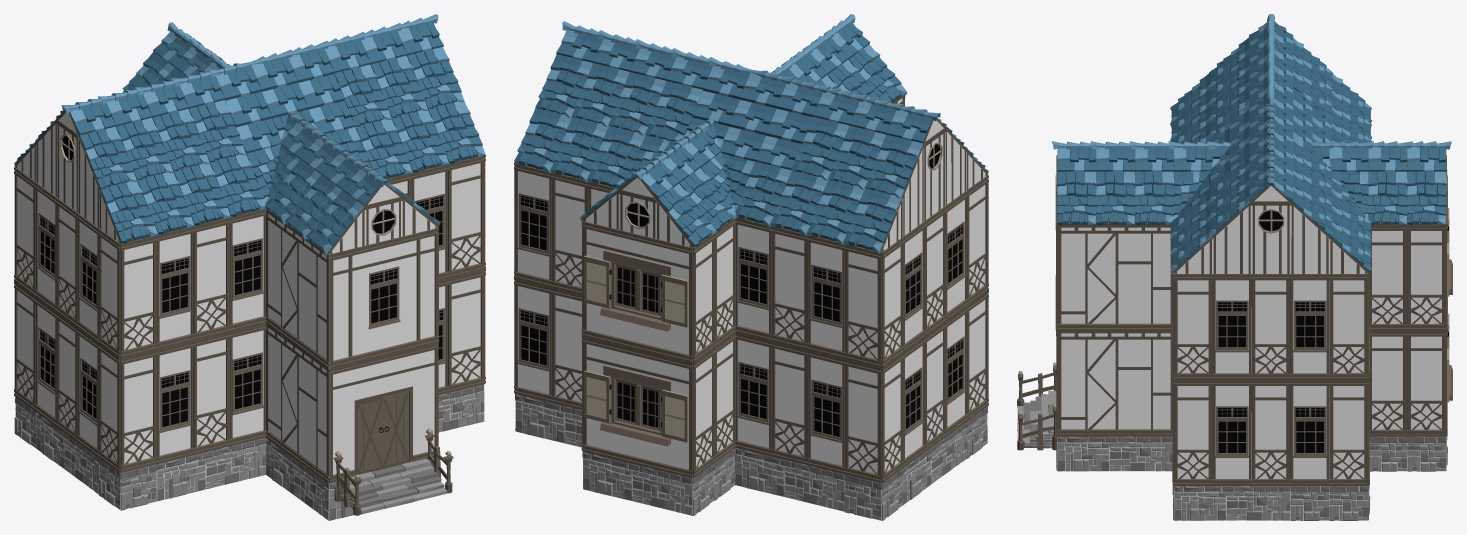
Rendered from House_18_Full.glb.
3 views of the same model, side by side, from view 1: azimuth 30°, elevation 25°; view 2: azimuth 150°, elevation 25°; view 3: azimuth 270°, elevation 25° (orthographic). The views are drawn at different scales.
Parts seen in each view (by area): view 1: WINDOW_03_2, DOOR_03_1, WALL_05_2, WALL_05_3, STAIRS_03_3, WALL_04_5, WALL_04_4, WALL_04_6, WALL_04_3, WINDOW_04_5, WALL_04_9, WINDOW_04_4 (+70 smaller); view 2: WINDOW_06_1.001, WINDOW_06_1, WALL_04_17, WALL_04_18, WALL_04_19, WINDOW_04_15, WINDOW_04_19, WALL_04_20, WINDOW_04_16, WINDOW_04_20, FOUNDATION_02_33, FOUNDATION_02_34 (+73 smaller); view 3: WALL_05_5, WALL_05_4, WINDOW_04_22, WALL_04_24, WALL_04_25, WALL_04_36, WALL_04_34, WINDOW_04_23, WALL_04_27, WALL_04_26, FOUNDATION_02_30, WINDOW_04_21 (+61 smaller).
Part boxes in pixels (<box>): WINDOW_03_2: <box>329,228,439,369</box>; DOOR_03_1: <box>329,343,438,483</box>; WALL_05_2: <box>266,324,329,482</box>; WALL_05_3: <box>266,210,329,368</box>; STAIRS_03_3: <box>333,428,453,515</box>; WALL_04_5: <box>120,236,157,358</box>; WALL_04_4: <box>120,350,157,472</box>; WALL_04_6: <box>193,219,230,340</box>; WALL_04_3: <box>193,332,230,454</box>; WINDOW_04_5: <box>157,227,194,349</box>; WALL_04_9: <box>448,157,485,278</box>; WINDOW_04_4: <box>157,341,194,463</box>; WINDOW_06_1.001: <box>582,221,692,363</box>; WINDOW_06_1: <box>582,336,692,478</box>; WALL_04_17: <box>771,226,808,350</box>; WALL_04_18: <box>771,341,808,464</box>; WALL_04_19: <box>844,243,881,367</box>; WINDOW_04_15: <box>807,234,844,358</box>; WINDOW_04_19: <box>514,163,551,287</box>; WALL_04_20: <box>844,359,881,482</box>; WINDOW_04_16: <box>807,350,844,473</box>; WINDOW_04_20: <box>514,279,551,402</box>; FOUNDATION_02_33: <box>583,452,692,515</box>; FOUNDATION_02_34: <box>735,448,844,511</box>; WALL_05_5: <box>1057,330,1172,436</box>; WALL_05_4: <box>1057,224,1172,330</box>; WINDOW_04_22: <box>1290,274,1329,380</box>; WALL_04_24: <box>1251,274,1290,380</box>; WALL_04_25: <box>1329,274,1368,380</box>; WALL_04_36: <box>1407,224,1446,330</box>; WALL_04_34: <box>1407,331,1446,436</box>; WINDOW_04_23: <box>1290,380,1329,485</box>; WALL_04_27: <box>1251,380,1290,485</box>; WALL_04_26: <box>1329,380,1368,485</box>; FOUNDATION_02_30: <box>1057,436,1172,471</box>; WINDOW_04_21: <box>1213,274,1251,380</box>.
Size of the model in its own units: 10.29 by 9.65 by 11.21.
1 material, 1 textured.
